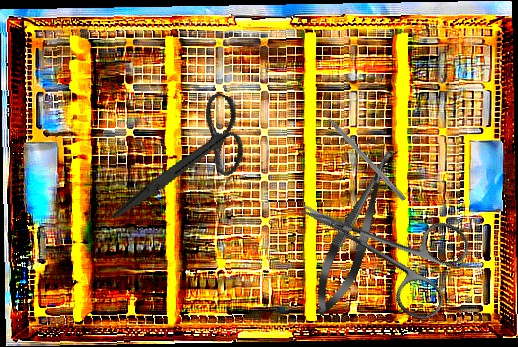Hook Surgical: (316, 104, 408, 202)
Iris Scissors: (279, 159, 477, 327), (110, 72, 260, 252)
Micro Scissor: (303, 140, 409, 322)
